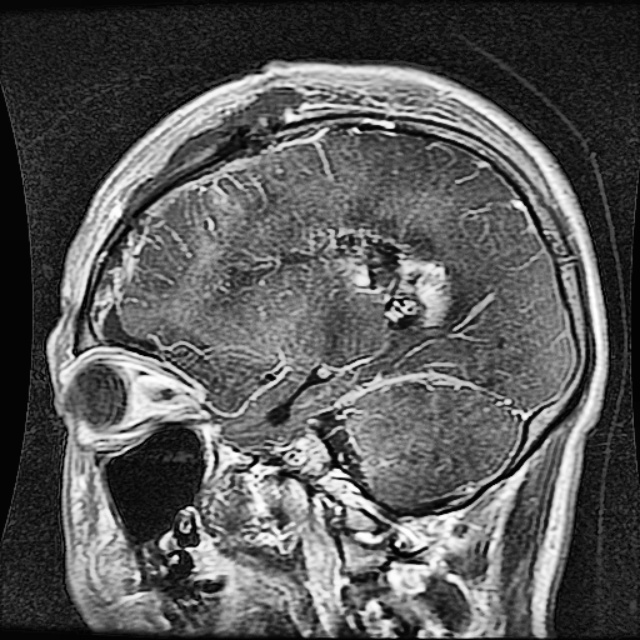Meningioma: (308, 230, 454, 328)
